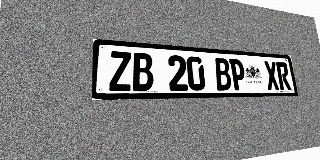0: (186, 56, 206, 91)
2: (167, 55, 188, 91)
B: (132, 52, 154, 91), (214, 58, 232, 90)
P: (229, 59, 247, 90)
R: (276, 62, 291, 90)
X: (264, 61, 280, 90)
Z: (109, 51, 132, 91)
